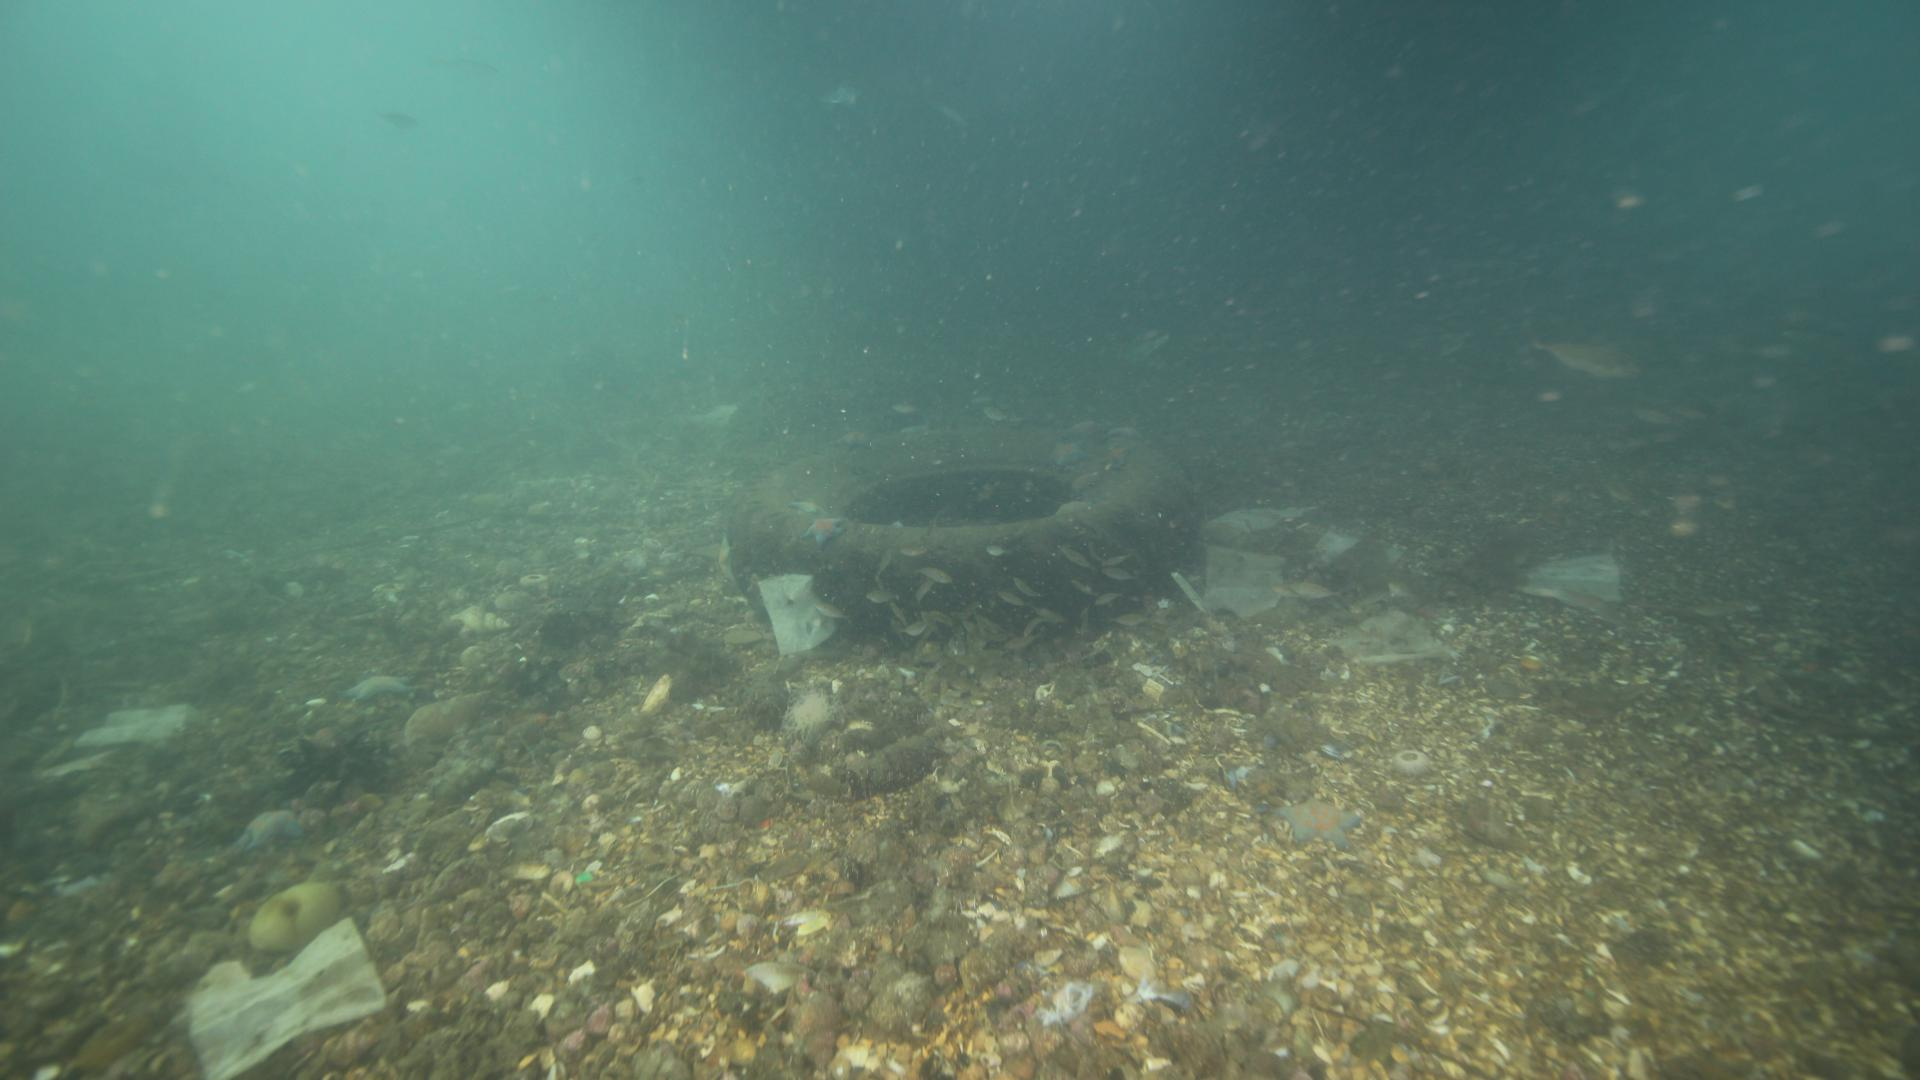tire: (727, 418, 1201, 647)
